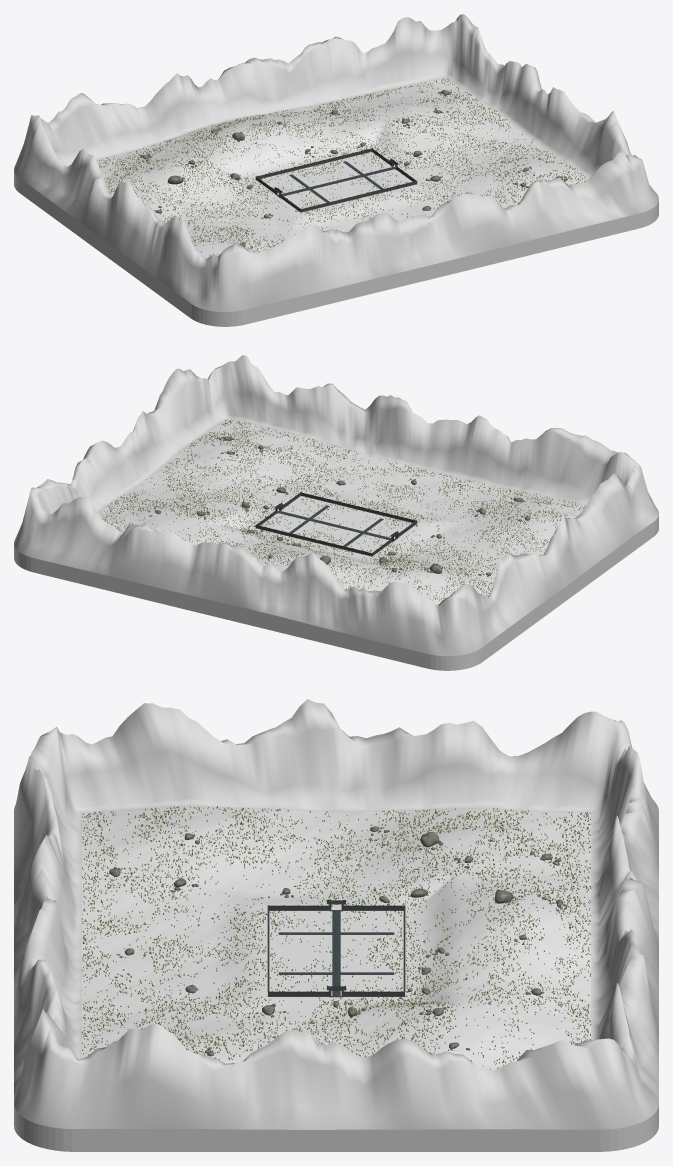
File: RollingHills_LOD1.fbx
The picture shows the model from 3 angles, top to bottom: view 1: azimuth 30°, elevation 25°; view 2: azimuth 150°, elevation 25°; view 3: azimuth 270°, elevation 25°; orthographic projection. The views are drawn at different scales.
Visible parts, largest first — view 1: Mountains_Ring_LOD1, Terrain_09_LOD1, Terrain_07_LOD1, Terrain_10_LOD1, Terrain_06_LOD1, Terrain_05_LOD1, Terrain_04_LOD1, Terrain_11_LOD1, Terrain_08_LOD1, Terrain_03_LOD1, Terrain_02_LOD1, Terrain_01_LOD1 (+13 smaller); view 2: Mountains_Ring_LOD1, Terrain_02_LOD1, Terrain_03_LOD1, Terrain_01_LOD1, Terrain_07_LOD1, Terrain_06_LOD1, Terrain_05_LOD1, Terrain_00_LOD1, Terrain_04_LOD1, Terrain_10_LOD1, Terrain_11_LOD1, Terrain_09_LOD1 (+15 smaller); view 3: Mountains_Ring_LOD1, Terrain_01_LOD1, Terrain_10_LOD1, Terrain_00_LOD1, Terrain_04_LOD1, Terrain_09_LOD1, Terrain_02_LOD1, Terrain_05_LOD1, Terrain_06_LOD1, Terrain_08_LOD1, Terrain_11_LOD1, Terrain_07_LOD1 (+16 smaller).
Boxes of the visible parts, left/top/right/bottom form: Mountains_Ring_LOD1: left=14, top=14, right=658, bottom=326; Terrain_09_LOD1: left=157, top=116, right=307, bottom=178; Terrain_07_LOD1: left=405, top=115, right=556, bottom=178; Terrain_10_LOD1: left=254, top=98, right=404, bottom=161; Terrain_06_LOD1: left=309, top=129, right=460, bottom=202; Terrain_05_LOD1: left=212, top=161, right=363, bottom=227; Terrain_04_LOD1: left=140, top=178, right=267, bottom=241; Terrain_11_LOD1: left=350, top=77, right=500, bottom=128; Terrain_08_LOD1: left=96, top=144, right=211, bottom=199; Terrain_03_LOD1: left=461, top=156, right=589, bottom=208; Terrain_02_LOD1: left=365, top=179, right=484, bottom=221; Terrain_01_LOD1: left=268, top=203, right=375, bottom=239; Mountains_Ring_LOD1: left=14, top=355, right=658, bottom=670; Terrain_02_LOD1: left=268, top=443, right=419, bottom=505; Terrain_03_LOD1: left=172, top=420, right=322, bottom=481; Terrain_01_LOD1: left=364, top=469, right=515, bottom=530; Terrain_07_LOD1: left=116, top=459, right=266, bottom=513; Terrain_06_LOD1: left=212, top=482, right=363, bottom=545; Terrain_05_LOD1: left=310, top=506, right=460, bottom=562; Terrain_00_LOD1: left=461, top=491, right=585, bottom=547; Terrain_04_LOD1: left=406, top=531, right=546, bottom=589; Terrain_10_LOD1: left=181, top=514, right=307, bottom=565; Terrain_11_LOD1: left=98, top=500, right=211, bottom=538; Terrain_09_LOD1: left=270, top=546, right=404, bottom=590; Mountains_Ring_LOD1: left=14, top=699, right=658, bottom=1151; Terrain_01_LOD1: left=82, top=883, right=251, bottom=960; Terrain_10_LOD1: left=421, top=934, right=590, bottom=1026; Terrain_00_LOD1: left=82, top=807, right=251, bottom=885; Terrain_04_LOD1: left=251, top=809, right=421, bottom=884; Terrain_09_LOD1: left=421, top=865, right=590, bottom=952; Terrain_02_LOD1: left=82, top=954, right=251, bottom=1027; Terrain_05_LOD1: left=251, top=871, right=421, bottom=954; Terrain_06_LOD1: left=251, top=953, right=421, bottom=1025; Terrain_08_LOD1: left=421, top=809, right=590, bottom=881; Terrain_11_LOD1: left=421, top=1009, right=590, bottom=1070; Terrain_07_LOD1: left=251, top=1011, right=421, bottom=1057.
Bounding box in the file's own units: 48000 × 7737 × 38000.
